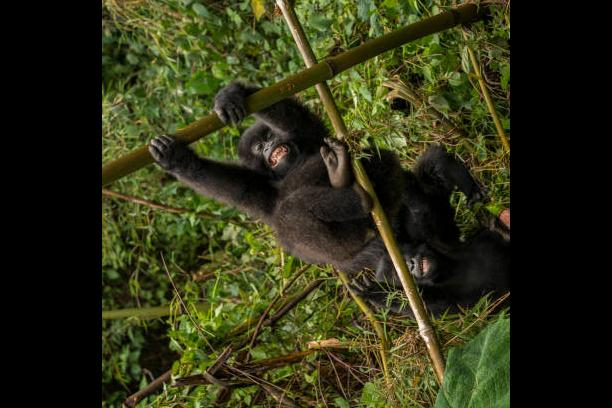goriile_montagne: (192, 93, 397, 267)
